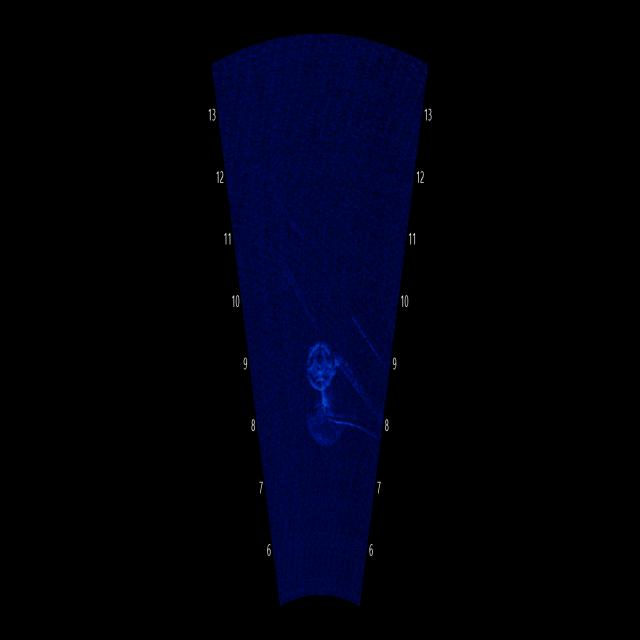circle: (304, 324, 349, 417)
